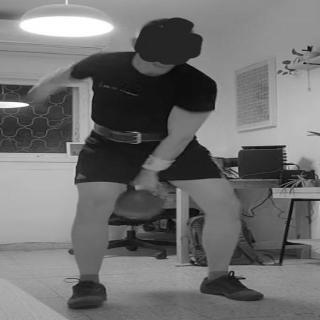kettlebell: (115, 177, 176, 223)
